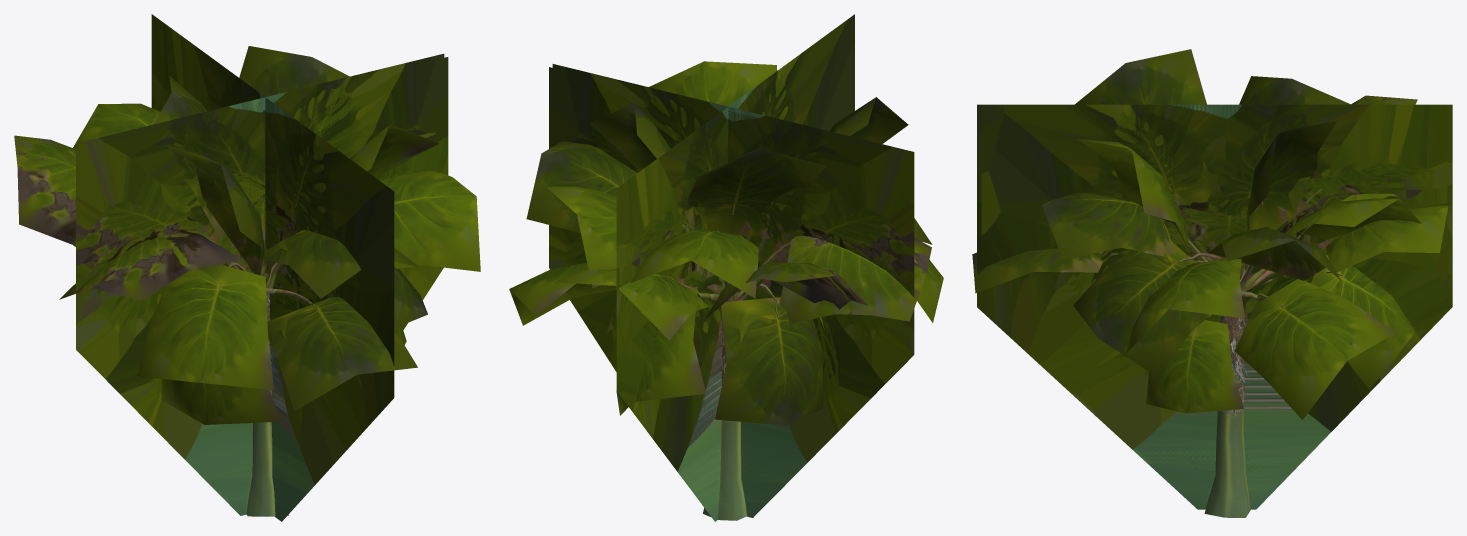
Rendered from Monstera1.fbx.
The picture shows the model from 3 angles, left to right: view 1: azimuth 30°, elevation 25°; view 2: azimuth 150°, elevation 25°; view 3: azimuth 270°, elevation 25°; orthographic projection.
Visible parts, largest first — view 1: Billboard, LOD0; view 2: Billboard, LOD0; view 3: Billboard, LOD0.
Boxes of the visible parts, x1,y1,x2,y2 form: Billboard: [76, 14, 448, 521]; LOD0: [14, 46, 480, 516]; Billboard: [549, 14, 914, 521]; LOD0: [509, 61, 943, 520]; Billboard: [977, 104, 1452, 509]; LOD0: [972, 49, 1448, 517].
Size of what is drawn, in the model's own units: 240 by 252 by 267.
